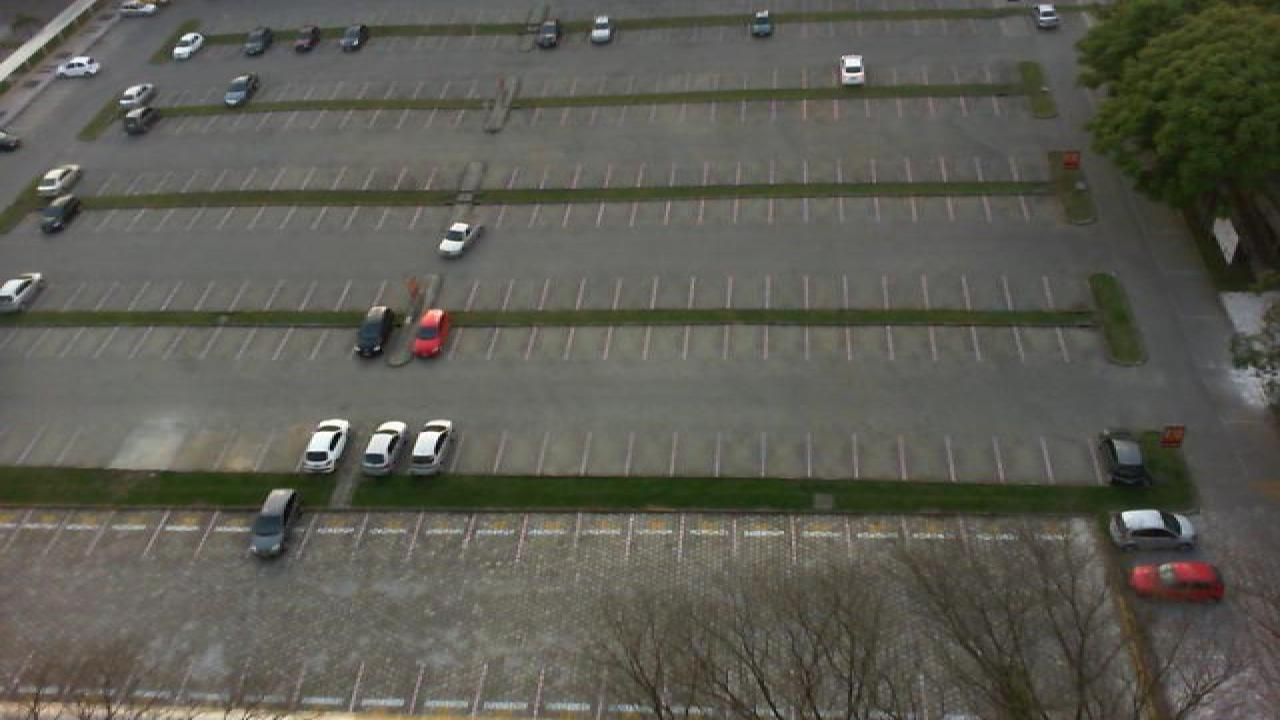Car: (1104, 509, 1200, 550), (248, 488, 300, 562), (1128, 561, 1224, 601), (1100, 430, 1156, 490), (298, 417, 352, 475), (358, 420, 408, 476), (408, 420, 456, 476), (352, 305, 396, 359), (410, 308, 452, 358), (436, 220, 484, 258), (0, 272, 42, 312), (40, 194, 80, 232), (36, 164, 80, 198), (222, 73, 260, 106), (116, 84, 154, 112), (118, 106, 154, 135), (170, 31, 204, 60), (56, 56, 102, 77), (838, 54, 866, 88), (244, 27, 274, 56), (338, 25, 368, 54), (534, 19, 562, 50), (586, 16, 614, 45), (292, 26, 320, 54), (750, 9, 776, 38), (1036, 2, 1062, 30), (120, 0, 164, 15)
